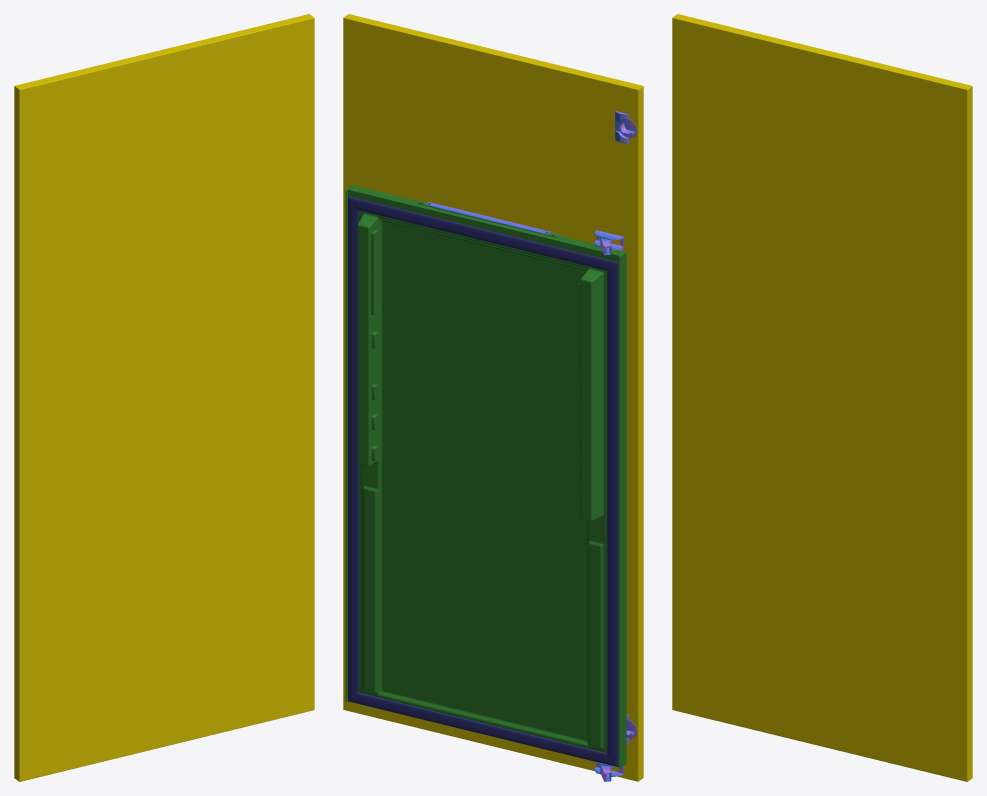
The model's file is SM_Fridge_Door_01.fbx.
3 views of the same model, side by side, from view 1: azimuth 30°, elevation 25°; view 2: azimuth 150°, elevation 25°; view 3: azimuth 330°, elevation 25° (orthographic).
Parts seen in each view (by area): view 1: SM_Fridge_Door_01; view 2: SM_Fridge_Door_01; view 3: SM_Fridge_Door_01.
Boxes of the visible parts, <box> form: SM_Fridge_Door_01: <box>14,14,314,781</box>; SM_Fridge_Door_01: <box>343,14,643,781</box>; SM_Fridge_Door_01: <box>672,14,972,781</box>.
Bounding box in the file's own units: 59.69 × 134 × 7.89.
5 materials, 2 textured.
